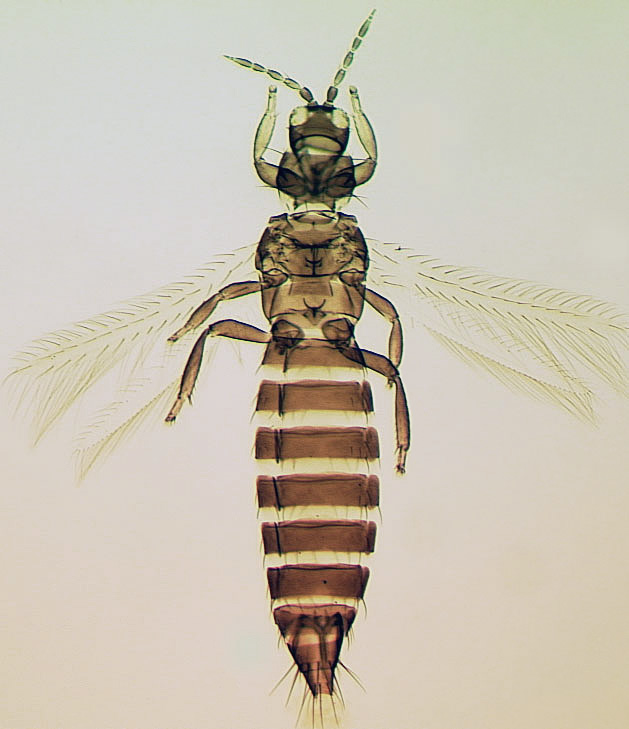Thripidae: (4, 15, 626, 707)
